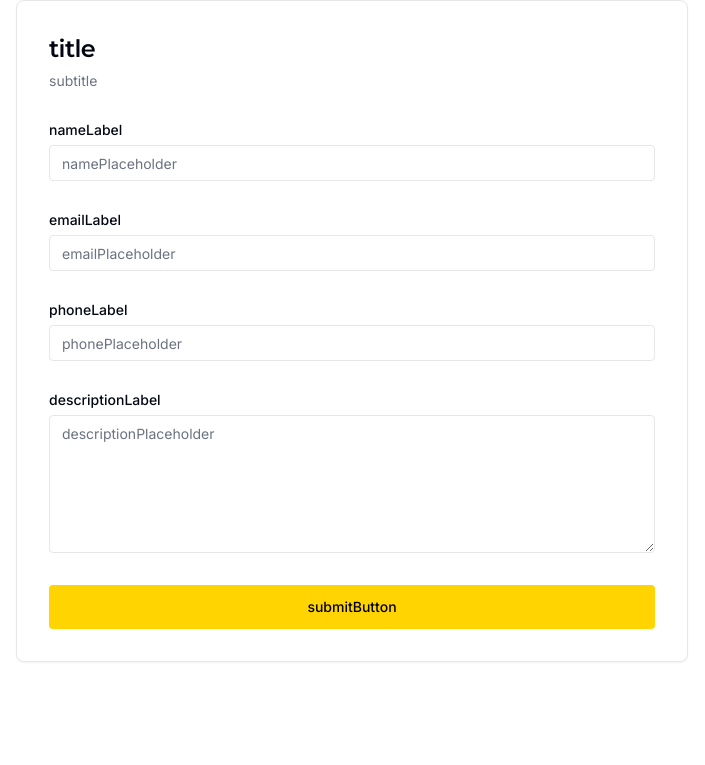
Test: CustomSoftwareForm › shows error message when submission fails
// Fill out form with valid data
In the field labelled "nameLabel": [352, 163] box [49, 145, 655, 181], type "John Doe"
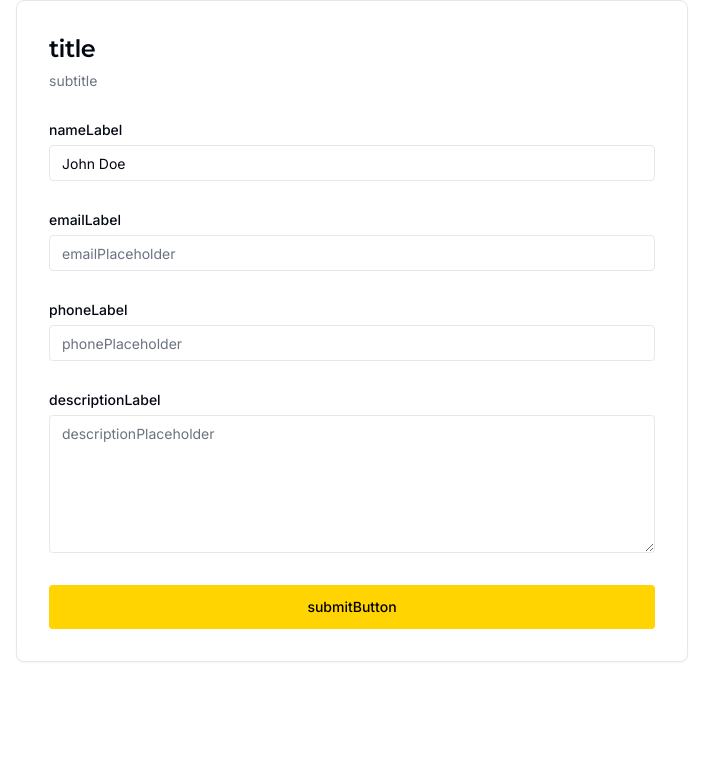
In the field labelled "emailLabel": [352, 253] box [49, 235, 655, 271], type "john@example.com"
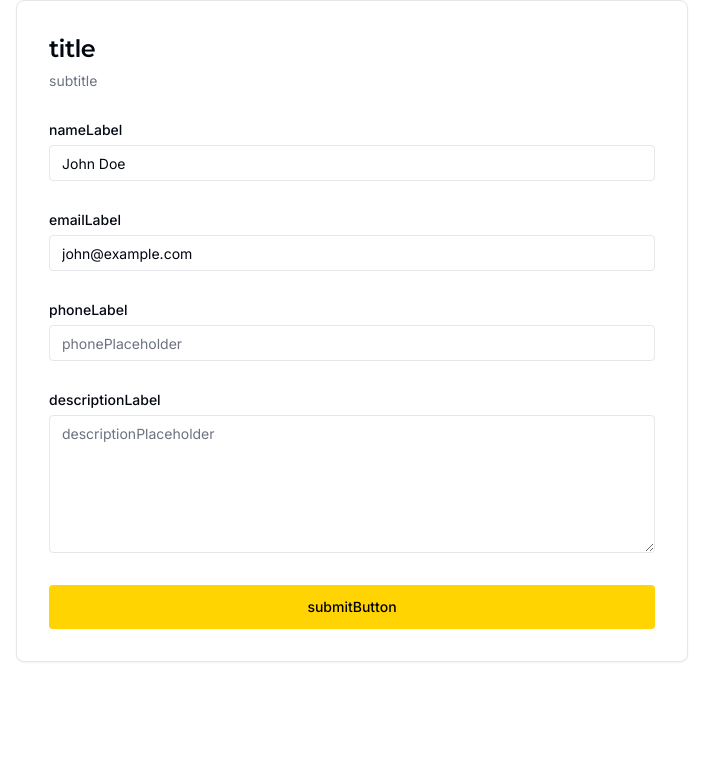
In the field labelled "phoneLabel": [352, 343] box [49, 325, 655, 361], type "+39 123 456 7890"
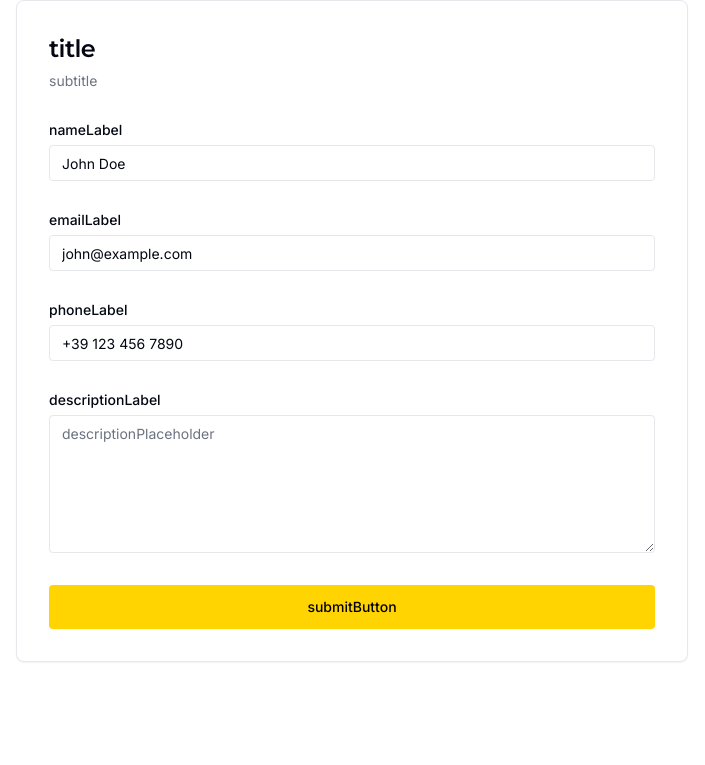
In the text box labelled "descriptionLabel": [352, 484] box [49, 415, 655, 553], type "I need a custom SaaS platform for managing inventory"
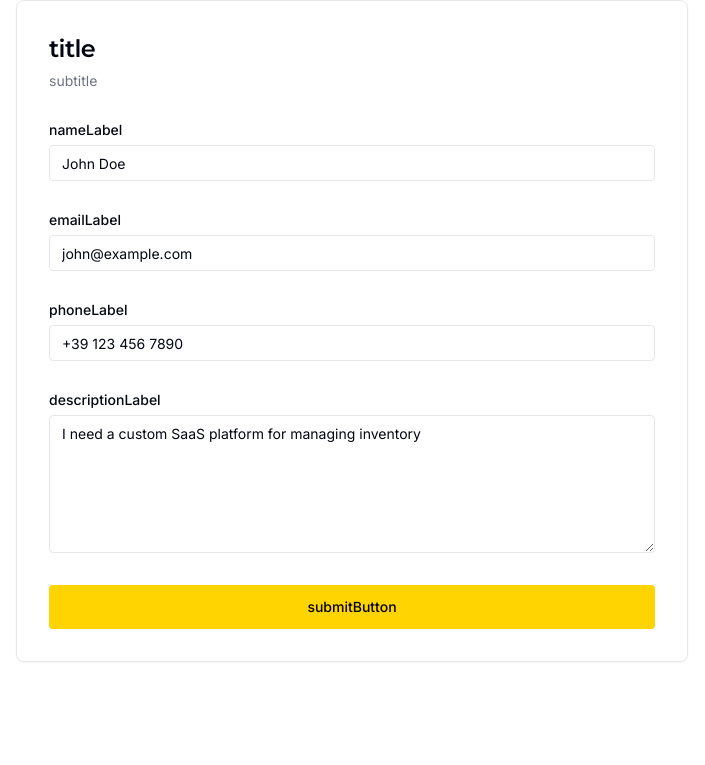
// Submit form
Click the button "submitButton": [352, 607] box [49, 585, 655, 629]
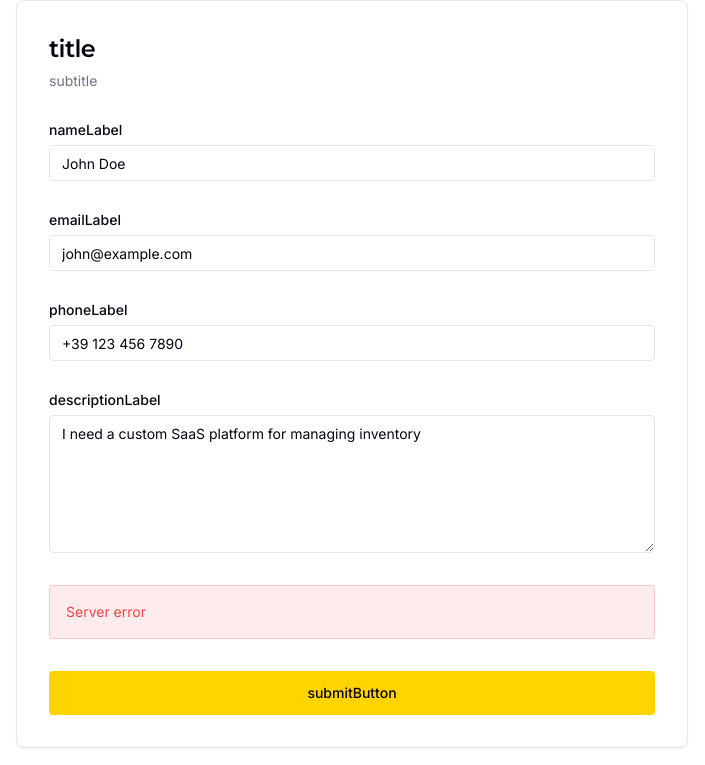
Check: the text "Server error" is shown, box [66, 603, 146, 620]
